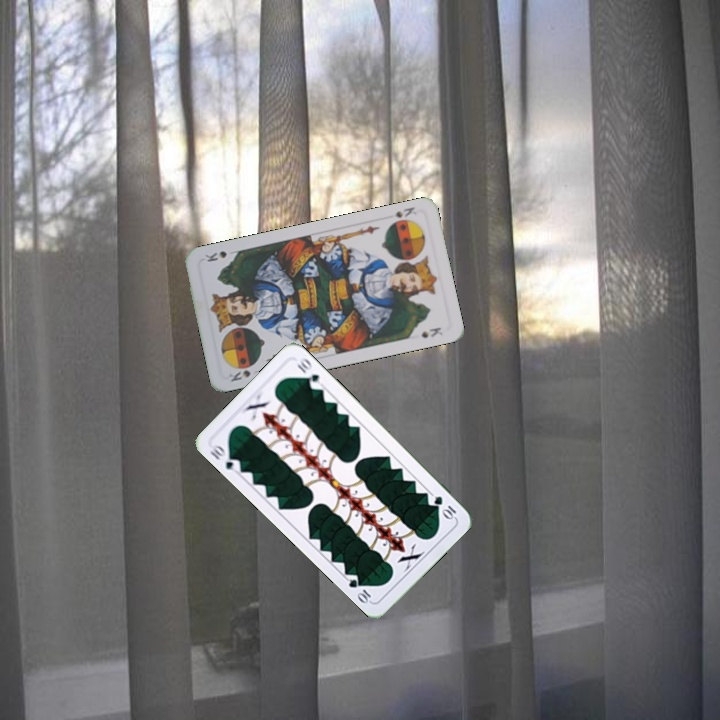G10: (206, 441, 243, 475), (430, 492, 459, 522)
SK: (382, 203, 419, 222), (225, 366, 253, 384)
